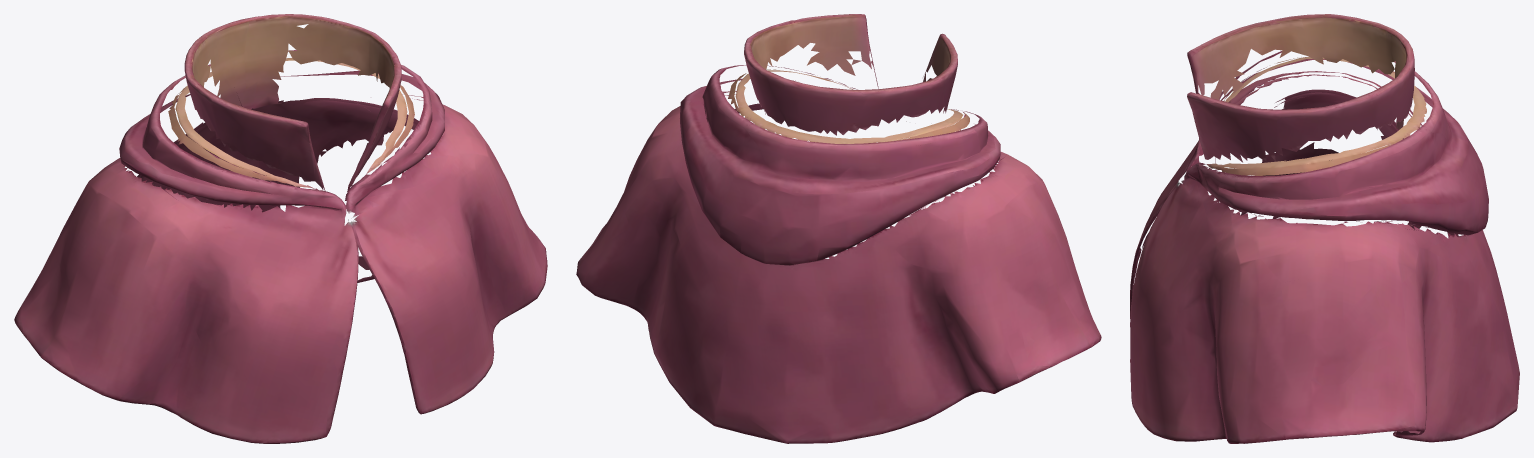
File: assassin_f_collar.glb
3 views of the same model, side by side, from view 1: azimuth 30°, elevation 25°; view 2: azimuth 150°, elevation 25°; view 3: azimuth 270°, elevation 25° (orthographic). The views are drawn at different scales.
Visible parts, largest first — view 1: lo; view 2: lo; view 3: lo.
Boxes of the visible parts, bbox=[...] form: lo: bbox=[14, 14, 547, 443]; lo: bbox=[576, 14, 1101, 443]; lo: bbox=[1130, 14, 1519, 443].
Size of the model in its own units: 0.68 by 0.42 by 0.44.
1 material, 1 textured.
